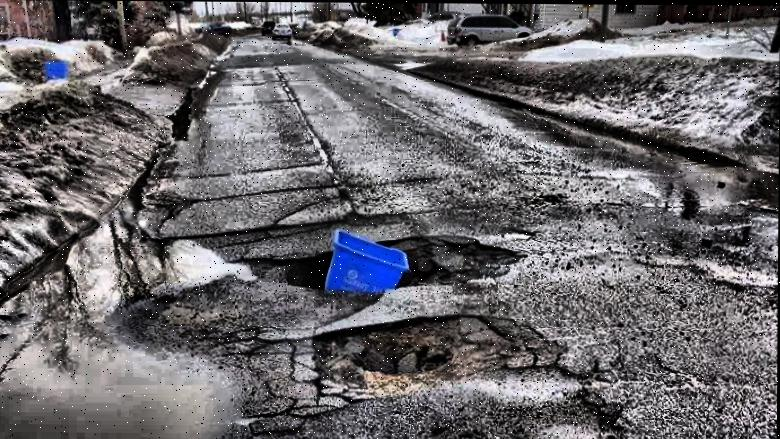pothole: (311, 314, 485, 386), (411, 231, 519, 290)
